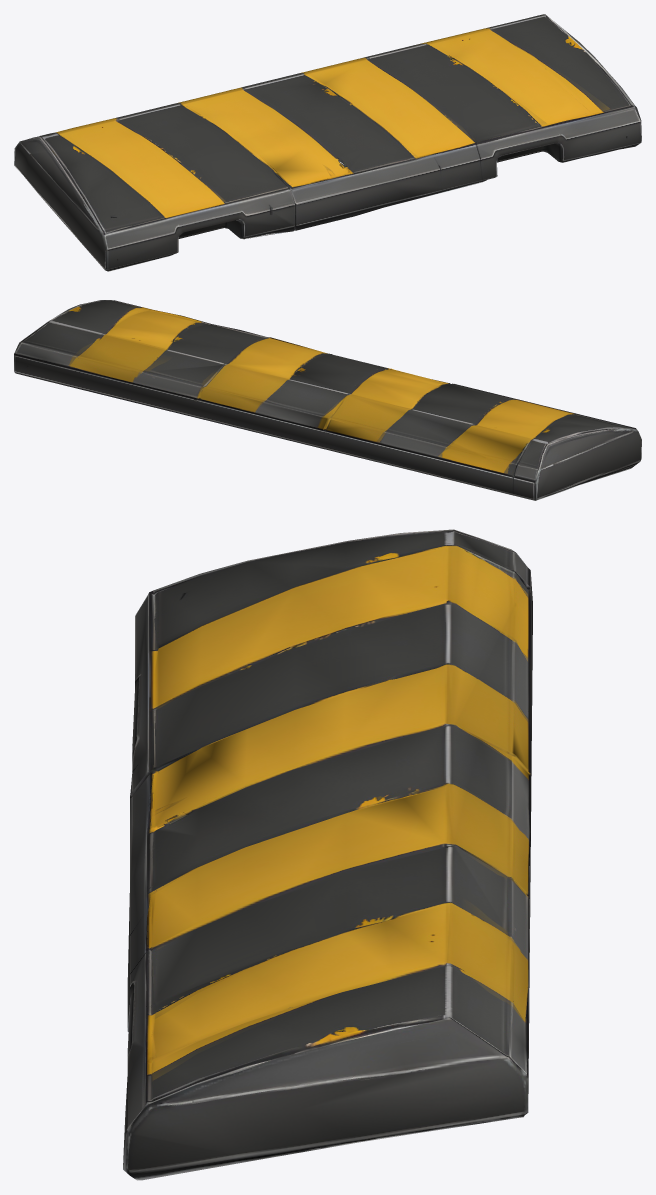
The model's file is rumble.glb.
The picture shows the model from 3 angles, top to bottom: view 1: azimuth 30°, elevation 25°; view 2: azimuth 150°, elevation 25°; view 3: azimuth 270°, elevation 25°; orthographic projection. The views are drawn at different scales.
Visible parts, largest first — view 1: tripo_node_e406f426-0139-4a2d-b4e8-c41ccfd93f2d; view 2: tripo_node_e406f426-0139-4a2d-b4e8-c41ccfd93f2d; view 3: tripo_node_e406f426-0139-4a2d-b4e8-c41ccfd93f2d.
Boxes of the visible parts, x1,y1,x2,y2 form: tripo_node_e406f426-0139-4a2d-b4e8-c41ccfd93f2d: [14, 14, 641, 271]; tripo_node_e406f426-0139-4a2d-b4e8-c41ccfd93f2d: [14, 300, 641, 500]; tripo_node_e406f426-0139-4a2d-b4e8-c41ccfd93f2d: [123, 529, 532, 1180].
Size of the model in its own units: 3.24 by 0.45 by 1.08.
Materials: 1 (1 with a texture image).
